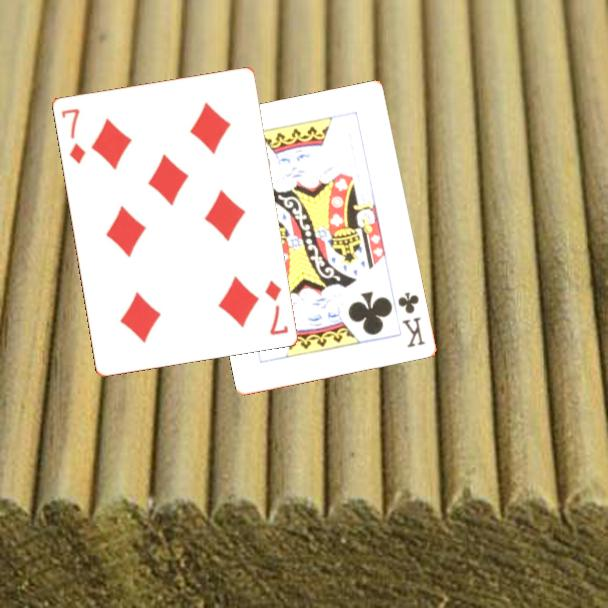c13: (395, 289, 429, 350)
d07: (57, 105, 88, 166), (261, 276, 291, 338)
